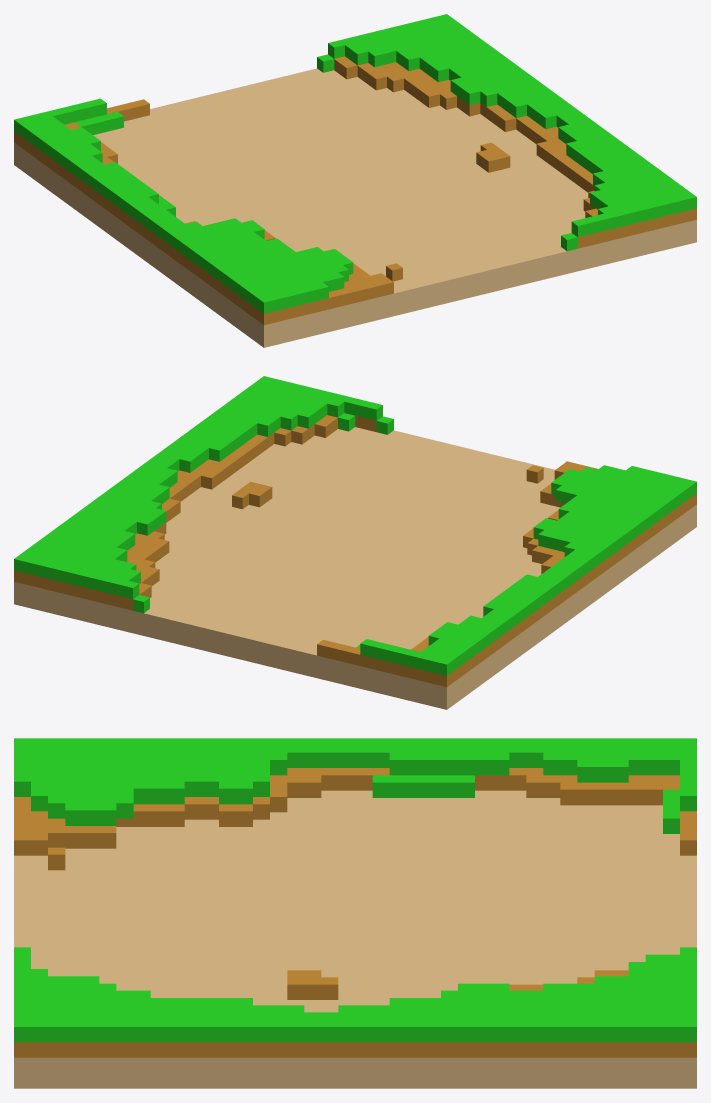
File: road2.obj
The picture shows the model from 3 angles, top to bottom: view 1: azimuth 30°, elevation 25°; view 2: azimuth 150°, elevation 25°; view 3: azimuth 270°, elevation 25°; orthographic projection. The views are drawn at different scales.
Size of the model in its own units: 4 by 0.4 by 4.
1 material, 1 textured.
